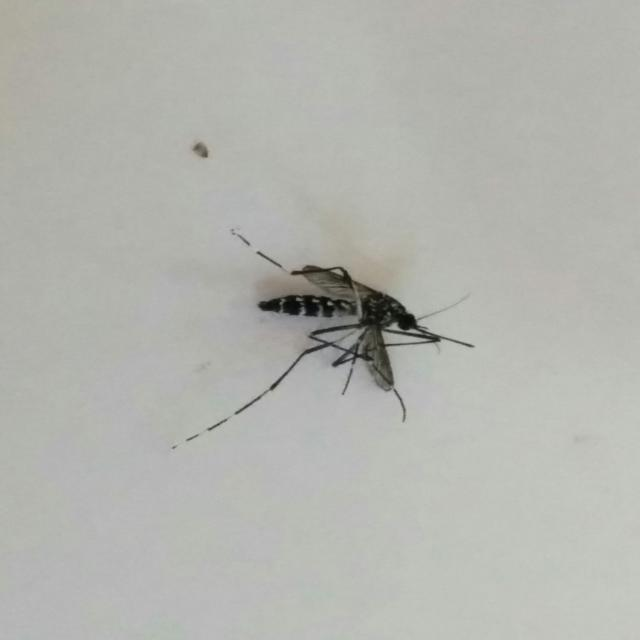albopictus: (170, 221, 476, 451)
